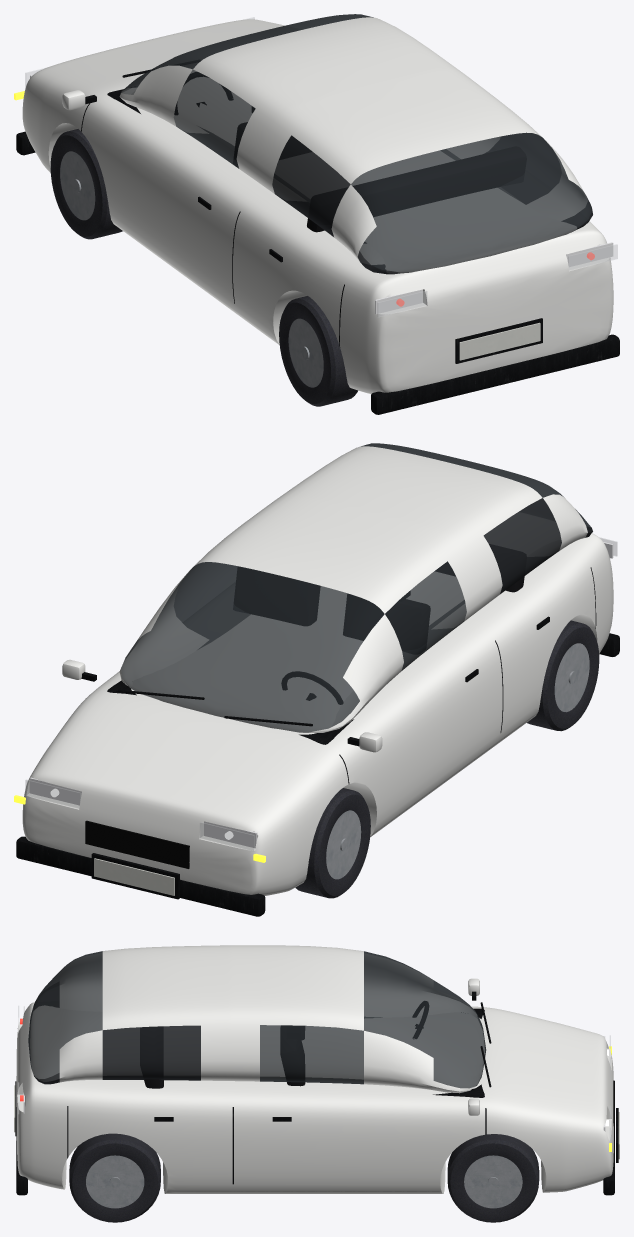
Rendered from hatchback_white.gltf.
3 renders of one model, top to bottom at view 1: azimuth 30°, elevation 25°; view 2: azimuth 150°, elevation 25°; view 3: azimuth 270°, elevation 25°, orthographic. The views are drawn at different scales.
Parts seen in each view (by area): view 1: hatchback_white; view 2: hatchback_white; view 3: hatchback_white.
Boxes of the visible parts, x1,y1,x2,y2 form: hatchback_white: (14, 14, 619, 414); hatchback_white: (14, 443, 619, 916); hatchback_white: (14, 945, 619, 1222).
Size of the model in its own units: 2.04 by 1.45 by 4.1.
Materials: 17 (8 with a texture image).
